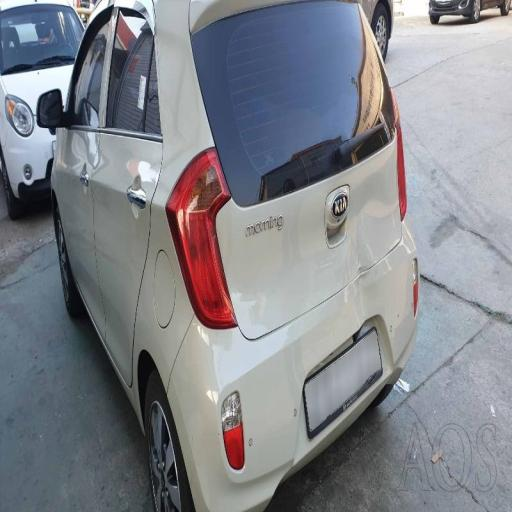dent: (317, 174, 444, 349), (116, 123, 198, 242)
scratch: (60, 94, 107, 177)
